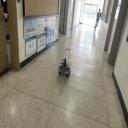cart: (58, 62, 72, 78)
